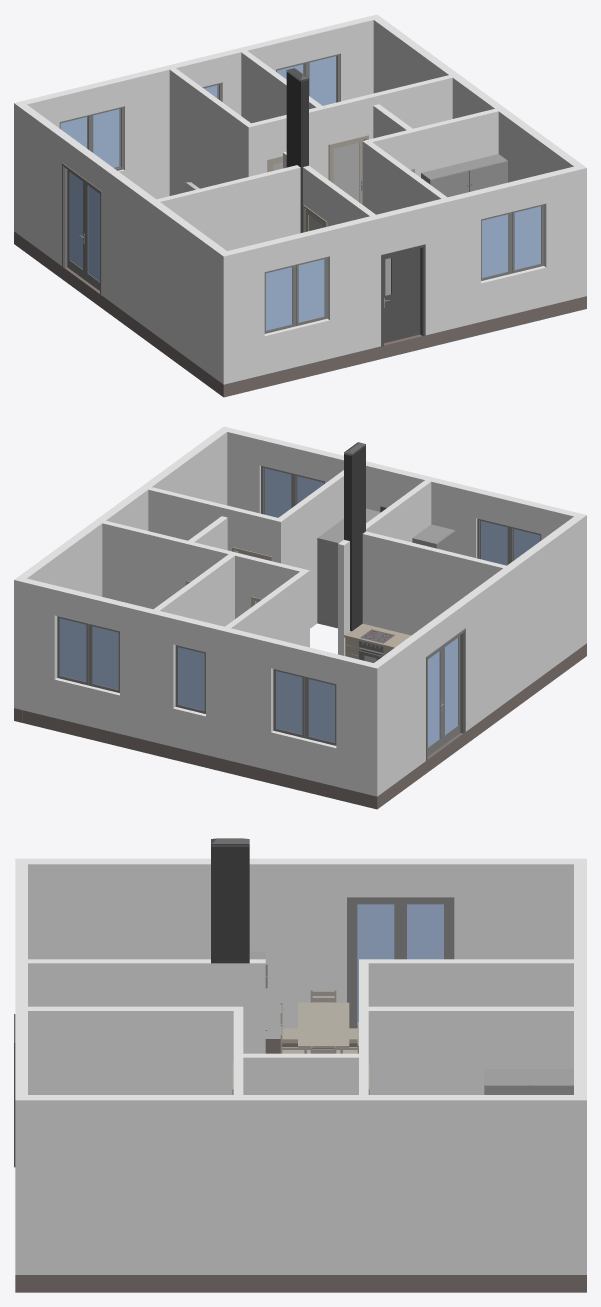
The model's file is plan1.glb.
3 views of the same model, one above another, from view 1: azimuth 30°, elevation 25°; view 2: azimuth 150°, elevation 25°; view 3: azimuth 270°, elevation 25° (orthographic). The views are drawn at different scales.
Visible parts, largest first — view 1: 102 001; view 2: 102 001; view 3: 102 001.
Boxes of the visible parts, left/top/right/bottom form: 102 001: left=14, top=14, right=586, bottom=397; 102 001: left=14, top=426, right=586, bottom=809; 102 001: left=14, top=838, right=586, bottom=1292.
Size of the model in its own units: 8.92 by 5.4 by 8.92.
